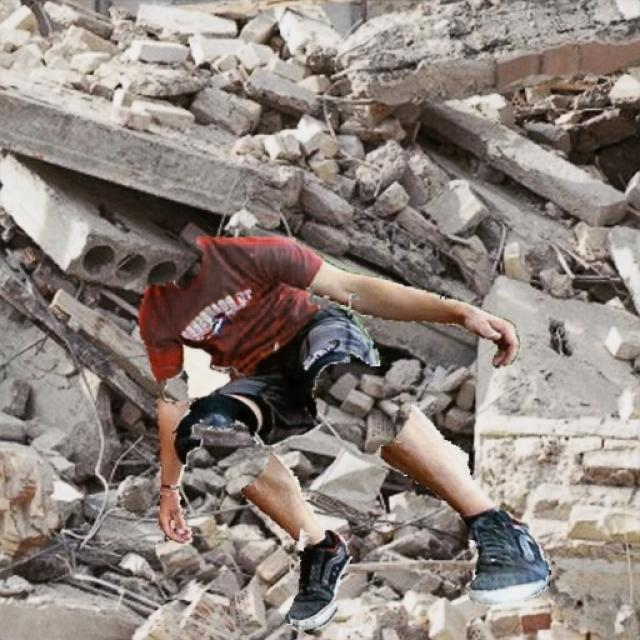Person in Rubble: (139, 238, 550, 632)
